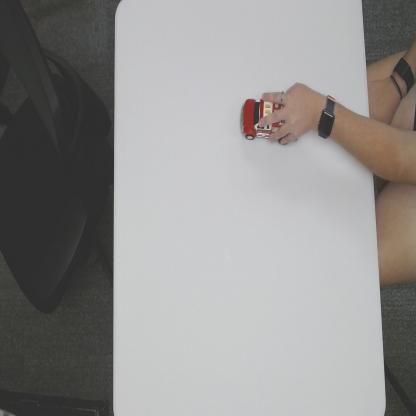Arm: (337, 100, 416, 186)
Firetruck: (238, 95, 291, 146)
Hand: (258, 79, 315, 147)
